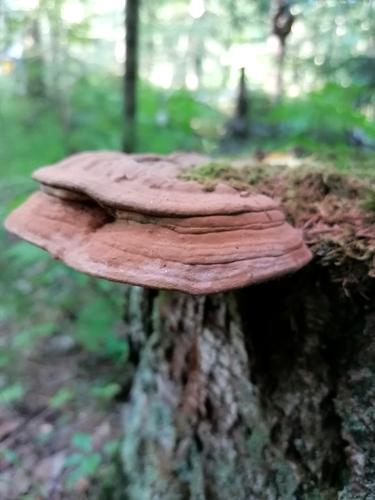Ganoderma - Fruit Body: (4, 148, 375, 293)
